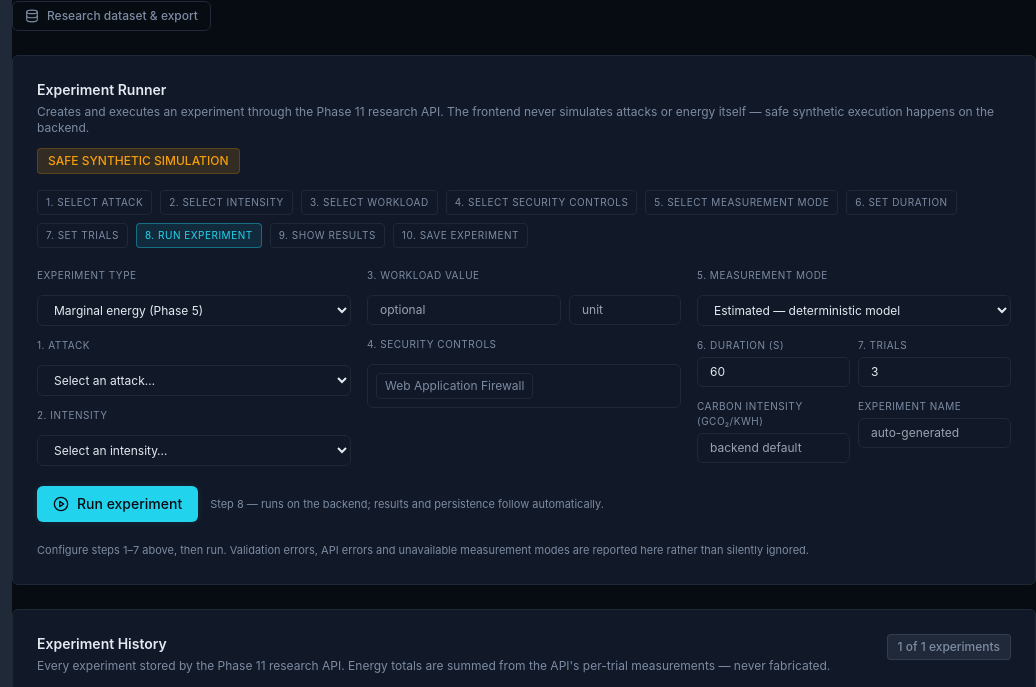
Scenario: ExperimentsPage › creates, executes and shows results for a configured experiment
The image size is (1036, 687).
Select "DDoS Flood" in the dropdown labelled "1. Attack": (194, 380) top-left (37, 365), bottom-right (351, 396)
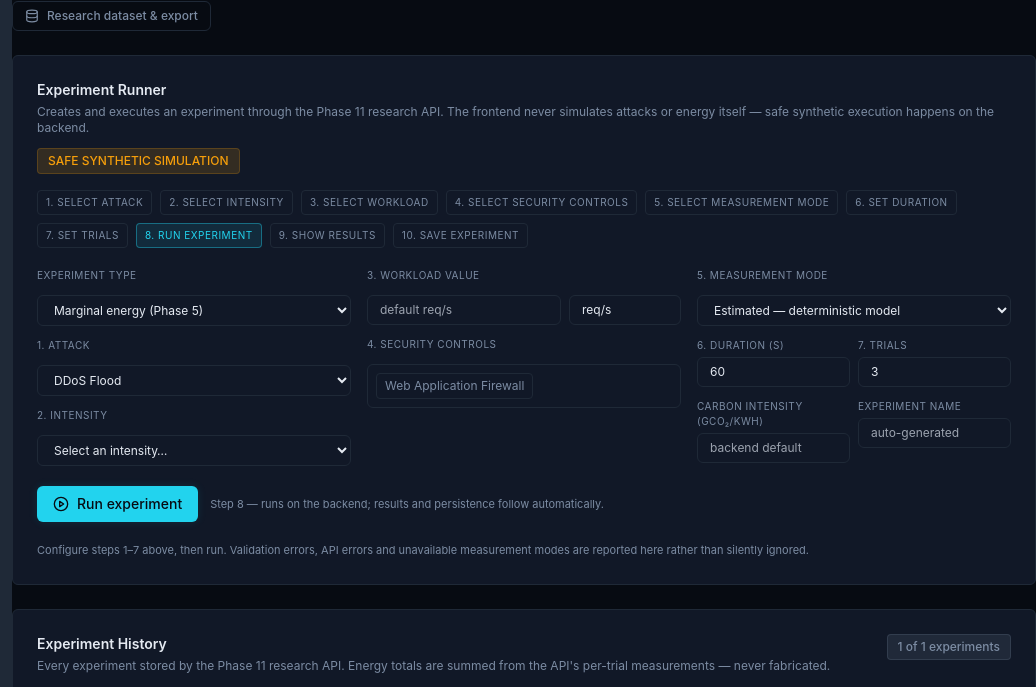
Select "MEDIUM" in the dropdown labelled "2. Intensity": (194, 450) top-left (37, 435), bottom-right (351, 466)
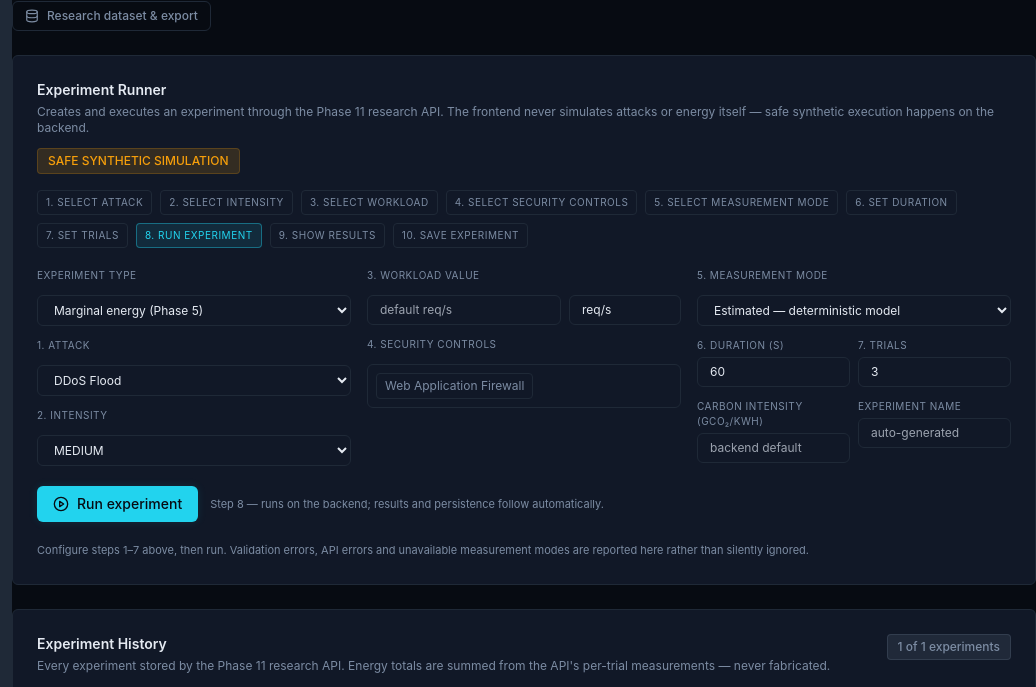
Click the button "Run experiment": (118, 504) top-left (37, 486), bottom-right (198, 522)
(page scrolled)
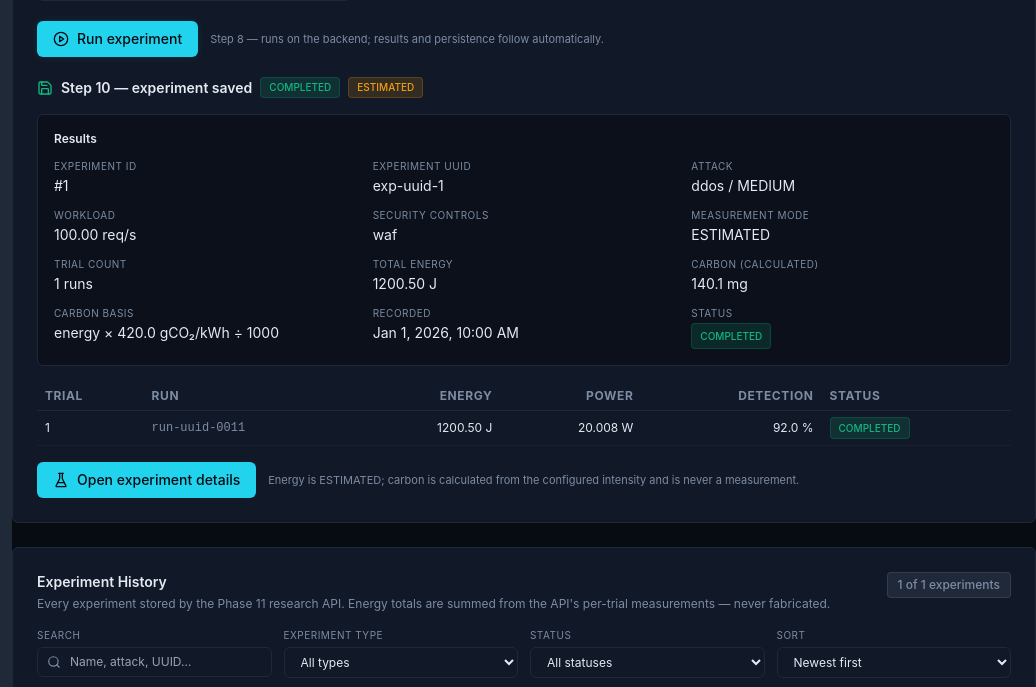
Result: the element with test id "runner-results" is shown at top-left (37, 77), bottom-right (1011, 498)
Result: the text "Step 10 — experiment saved" is shown at top-left (61, 78), bottom-right (252, 98)
Result: the text "Trial Count" is shown at top-left (54, 258), bottom-right (127, 270)
